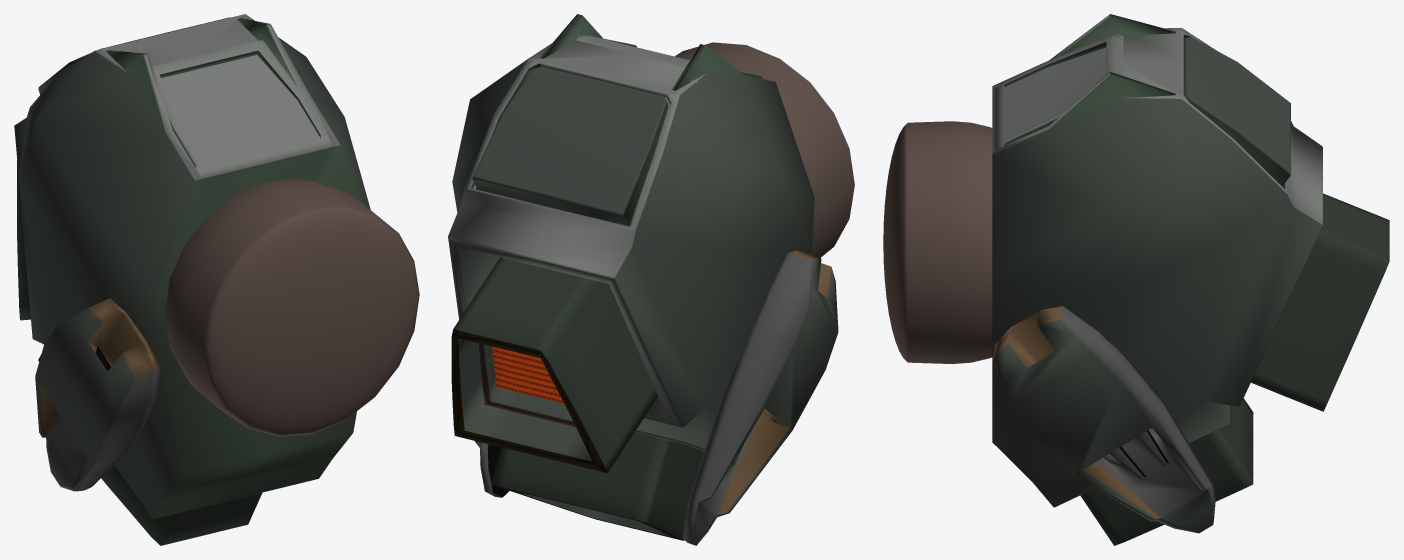
The model's file is mainThrust.fbx.
3 renders of one model, left to right at view 1: azimuth 30°, elevation 25°; view 2: azimuth 150°, elevation 25°; view 3: azimuth 270°, elevation 25°, orthographic. The views are drawn at different scales.
Visible parts, largest first — view 1: pCube10; view 2: pCube10; view 3: pCube10.
Part boxes in pixels (x1,y1,x2,y2): pCube10: (14, 14, 419, 545); pCube10: (448, 14, 854, 545); pCube10: (883, 14, 1389, 545).
Bounding box in the file's own units: 2.17 × 3.26 × 3.11.
1 material, 1 textured.
